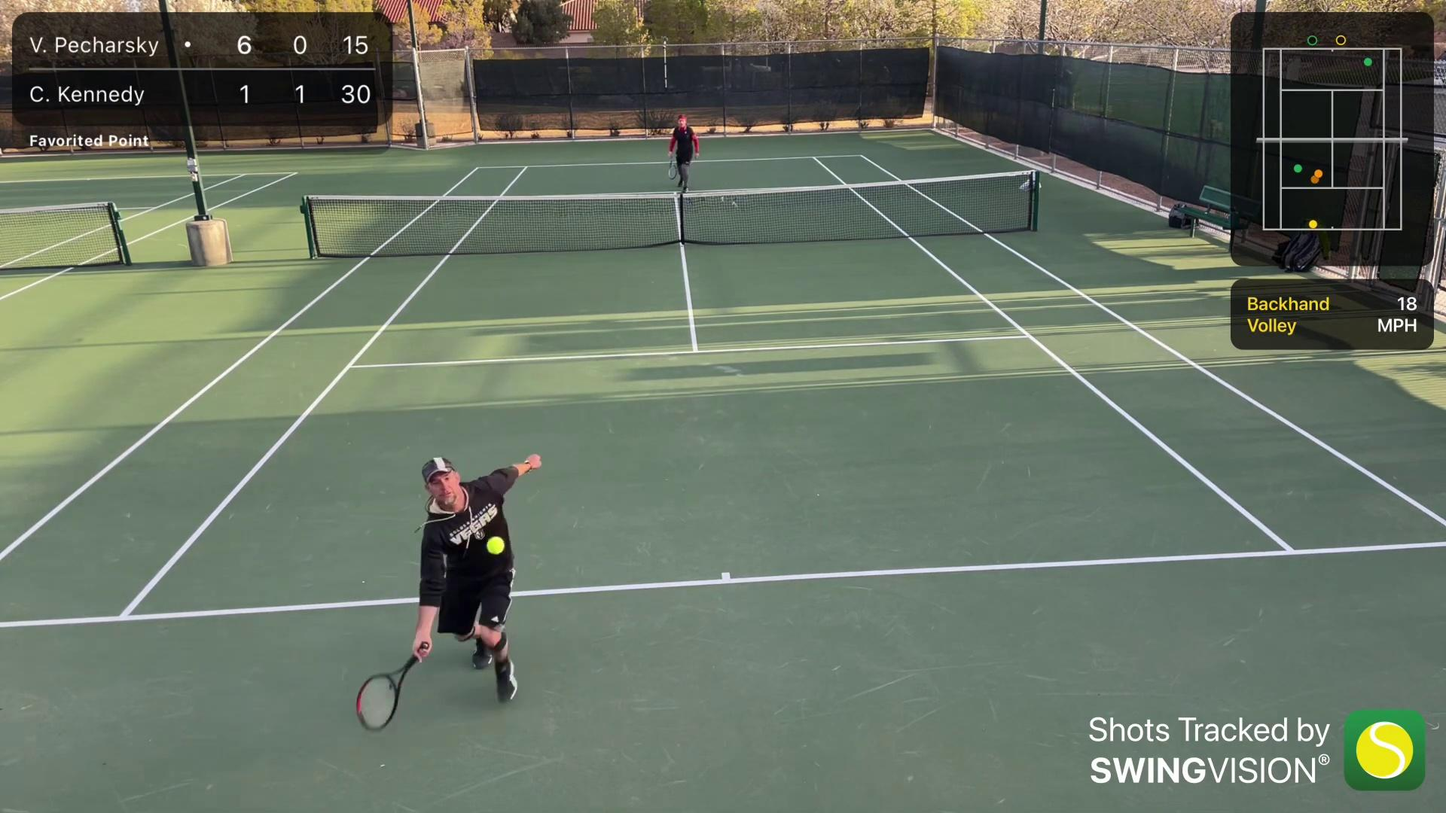ball: (482, 529, 512, 560)
